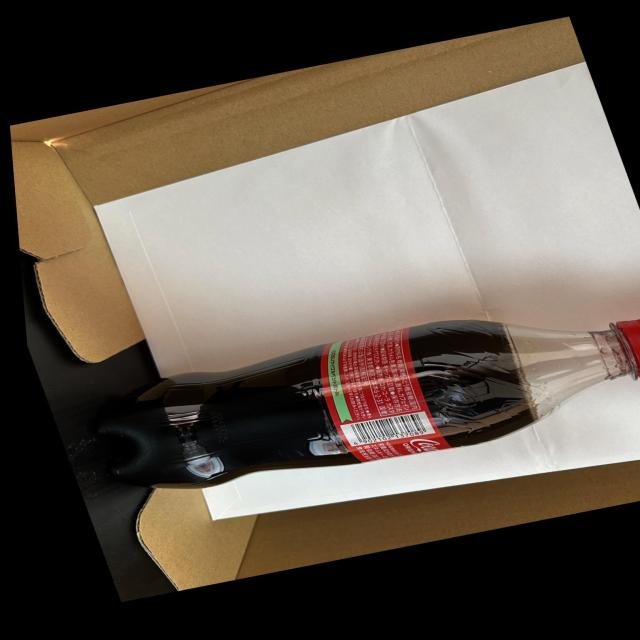high: (99, 320, 640, 489)
